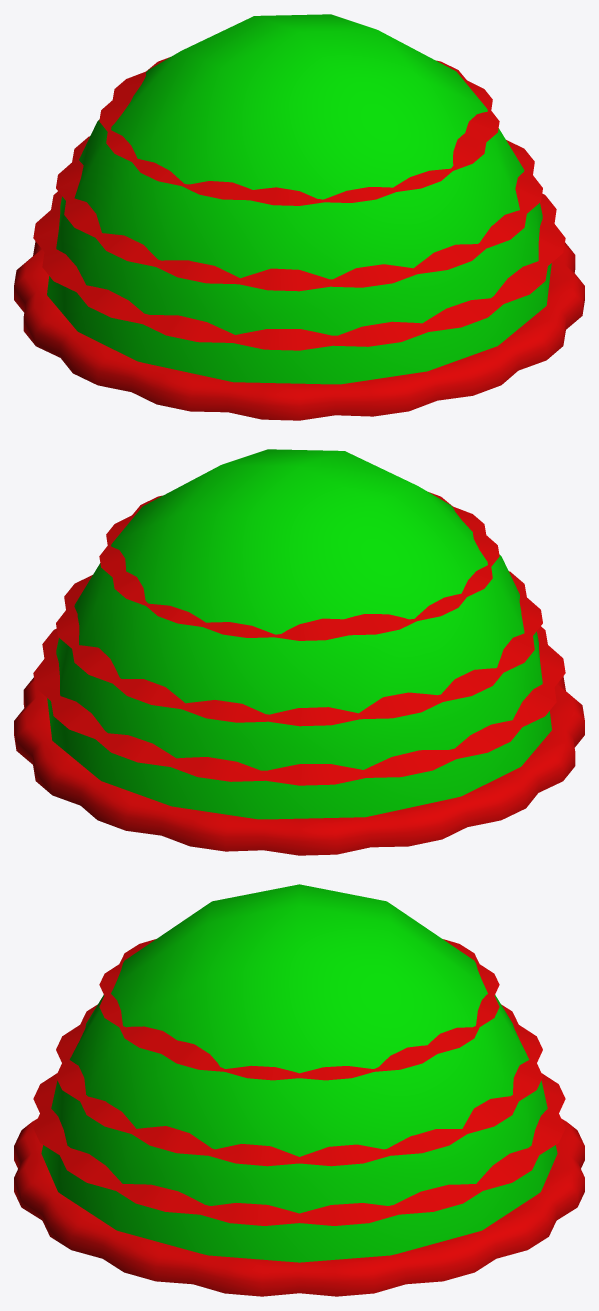
File: Mushroom.fbx
3 views of the same model, one above another, from view 1: azimuth 30°, elevation 25°; view 2: azimuth 150°, elevation 25°; view 3: azimuth 270°, elevation 25° (orthographic).
Visible parts, largest first — view 1: Mushroom; view 2: Mushroom; view 3: Mushroom.
Boxes of the visible parts, x1,y1,x2,y2 form: Mushroom: (14, 14, 584, 420); Mushroom: (14, 449, 584, 855); Mushroom: (14, 884, 584, 1296).
Bounding box in the file's own units: 31.2 × 16.3 × 31.2.
